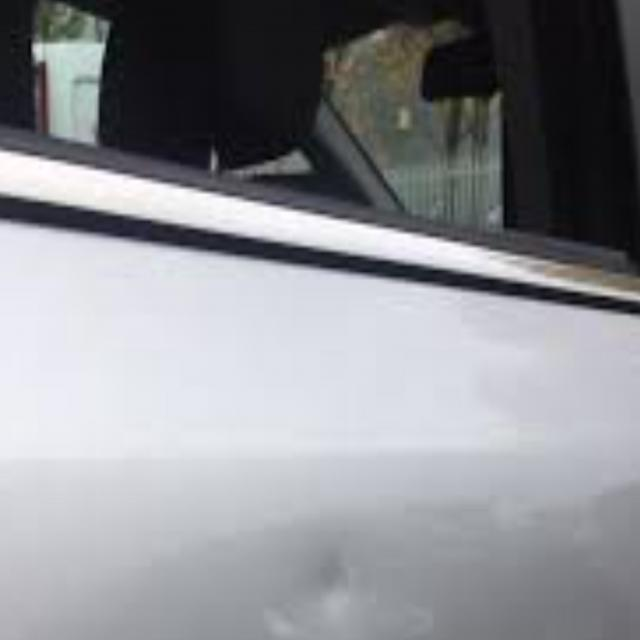dents: (303, 544, 405, 636)
